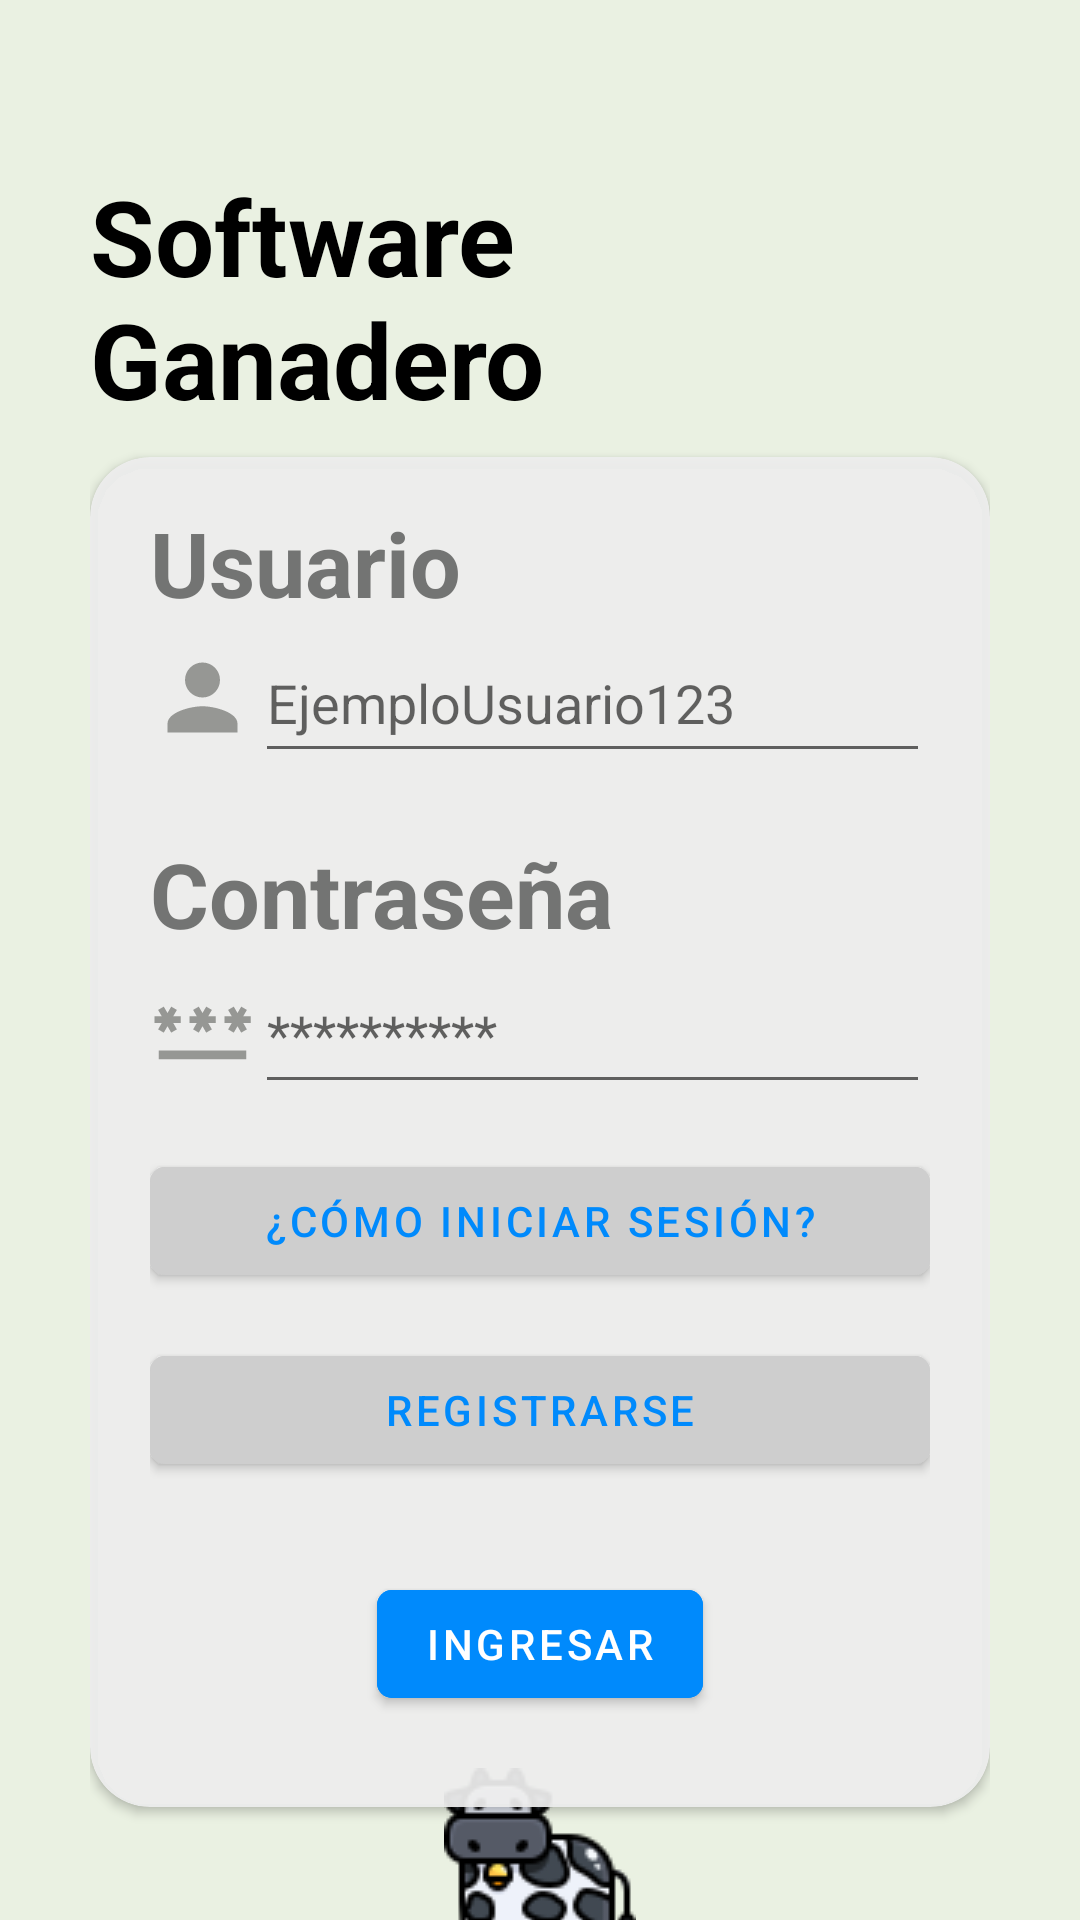

Icons on this 1080×1920 Android screen, each with its box as (x1, y1, x2, y2):
password: (154, 1007, 251, 1059)
user: (167, 662, 238, 733)
